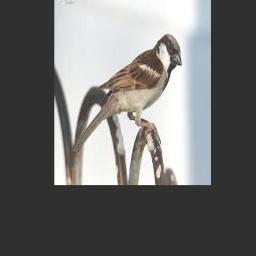Sparrow: (73, 34, 181, 155)
